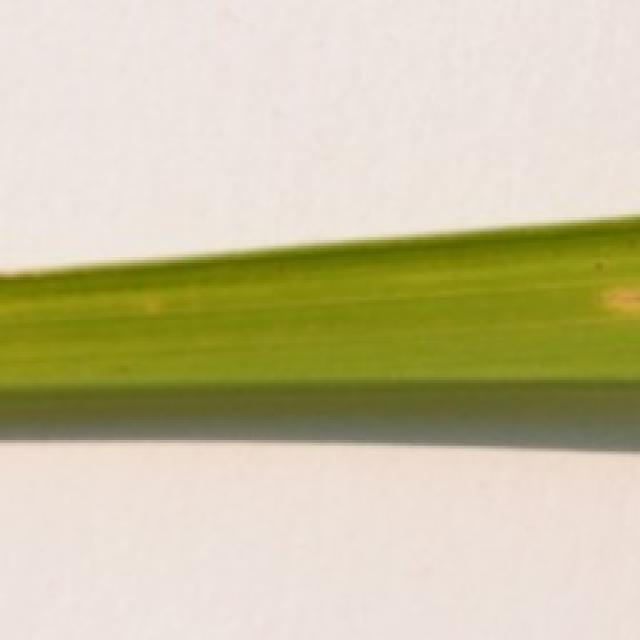Rice___Bacterial_Leaf_Blight: (0, 212, 637, 418)
